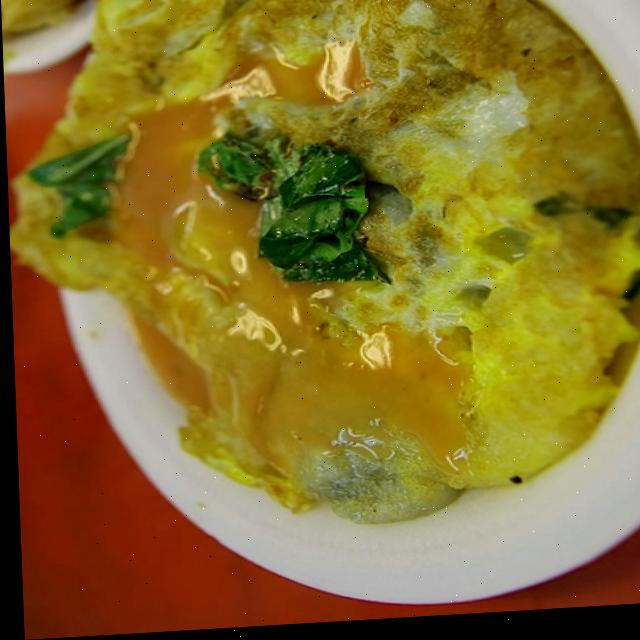熟制海鲜: (1, 0, 640, 629)
